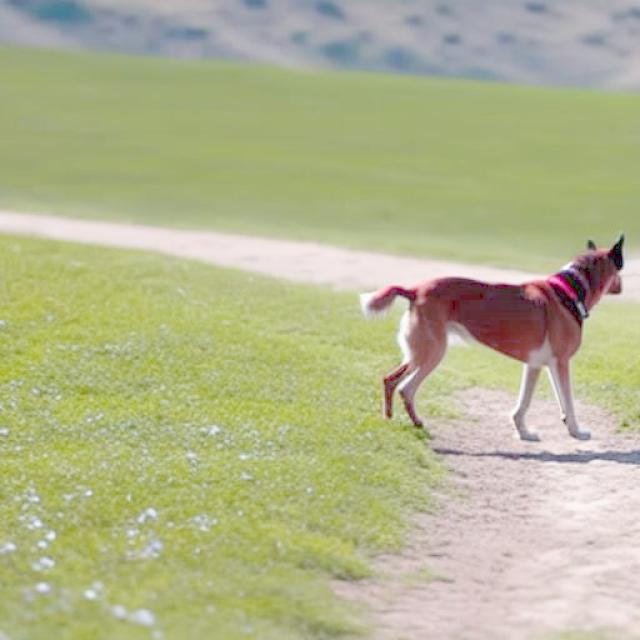Dog: (359, 230, 626, 442)
